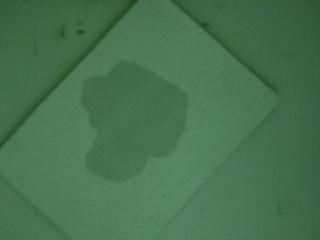Water_detected: (96, 80, 180, 165)
